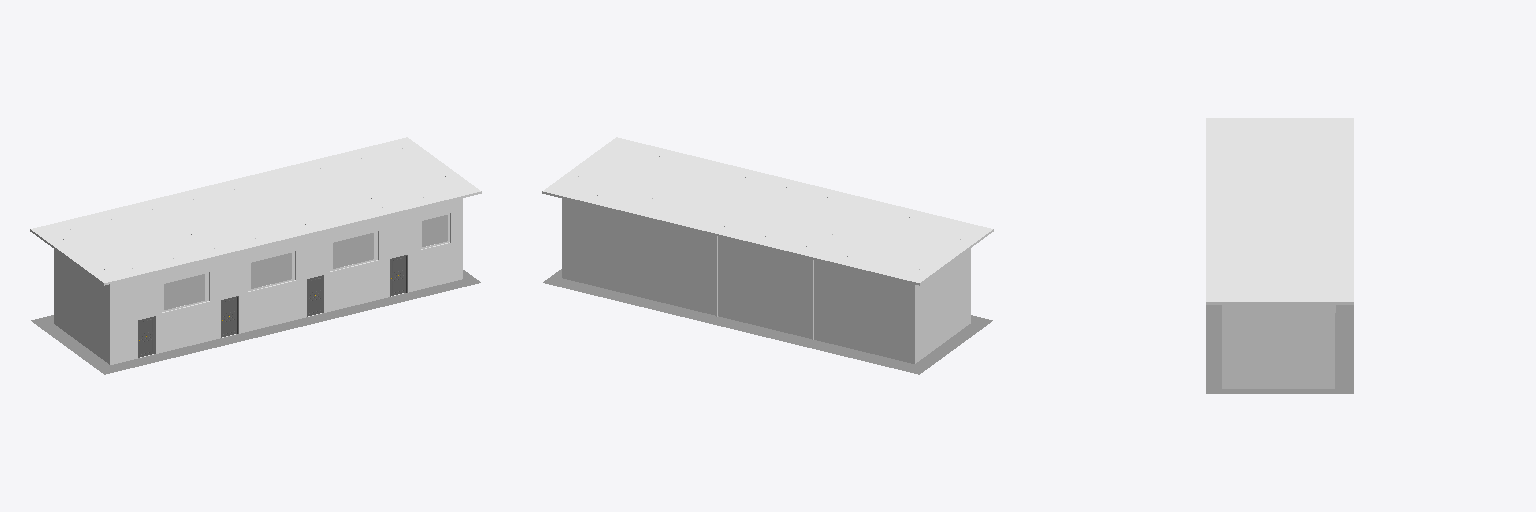
The model's file is salon2.obj.
The picture shows the model from 3 angles: view 1: azimuth 30°, elevation 25°; view 2: azimuth 150°, elevation 25°; view 3: azimuth 270°, elevation 25°; orthographic projection.
Parts seen in each view (by area): view 1: room_13_51, wall_3_16, wall_4_22, ground_1, sweethome3d_window_pane_on_hinge_1_106, sweethome3d_window_pane_on_hinge_1_113, sweethome3d_window_pane_on_hinge_1_120, sweethome3d_window_pane_on_hinge_1_399, sweethome3d_opening_on_hinge_1_doorOutside_63, sweethome3d_opening_on_hinge_1_doorOutside_87, sweethome3d_opening_on_hinge_1_doorOutside_99, sweethome3d_opening_on_hinge_1_doorOutside_75; view 2: wall_1_4, room_13_51, ground_1, wall_4_22; view 3: room_13_51, wall_2_10, ground_1.
Boxes of the visible parts, <box> form: room_13_51: <box>30,137,481,285</box>; wall_3_16: <box>110,197,462,364</box>; wall_4_22: <box>54,239,109,364</box>; ground_1: <box>31,270,480,374</box>; sweethome3d_window_pane_on_hinge_1_106: <box>164,274,204,309</box>; sweethome3d_window_pane_on_hinge_1_113: <box>251,253,291,288</box>; sweethome3d_window_pane_on_hinge_1_120: <box>333,233,373,268</box>; sweethome3d_window_pane_on_hinge_1_399: <box>422,215,447,246</box>; sweethome3d_opening_on_hinge_1_doorOutside_63: <box>139,317,154,357</box>; sweethome3d_opening_on_hinge_1_doorOutside_87: <box>308,276,322,315</box>; sweethome3d_opening_on_hinge_1_doorOutside_99: <box>391,256,405,295</box>; sweethome3d_opening_on_hinge_1_doorOutside_75: <box>222,297,236,336</box>; wall_1_4: <box>562,195,914,363</box>; room_13_51: <box>542,137,993,285</box>; ground_1: <box>543,269,992,374</box>; wall_4_22: <box>915,239,970,363</box>; room_13_51: <box>1206,118,1353,304</box>; wall_2_10: <box>1222,305,1334,388</box>; ground_1: <box>1206,305,1353,393</box>.
Size of the model in its own units: 2160 by 500 by 735.